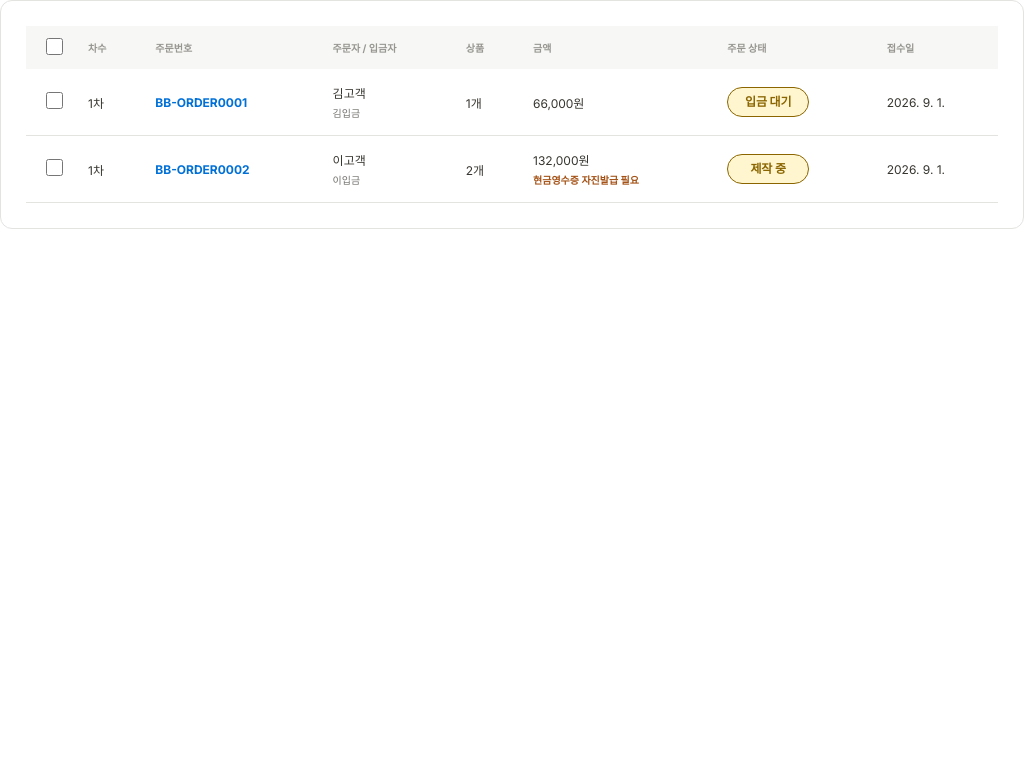
Test: AdminOrdersTable › 확인 후 선택 주문을 한 번의 일괄 작업으로 요청한다
Click the checkbox named "조회된 주문 전체 선택" at [54, 46], box [46,38,62,55]
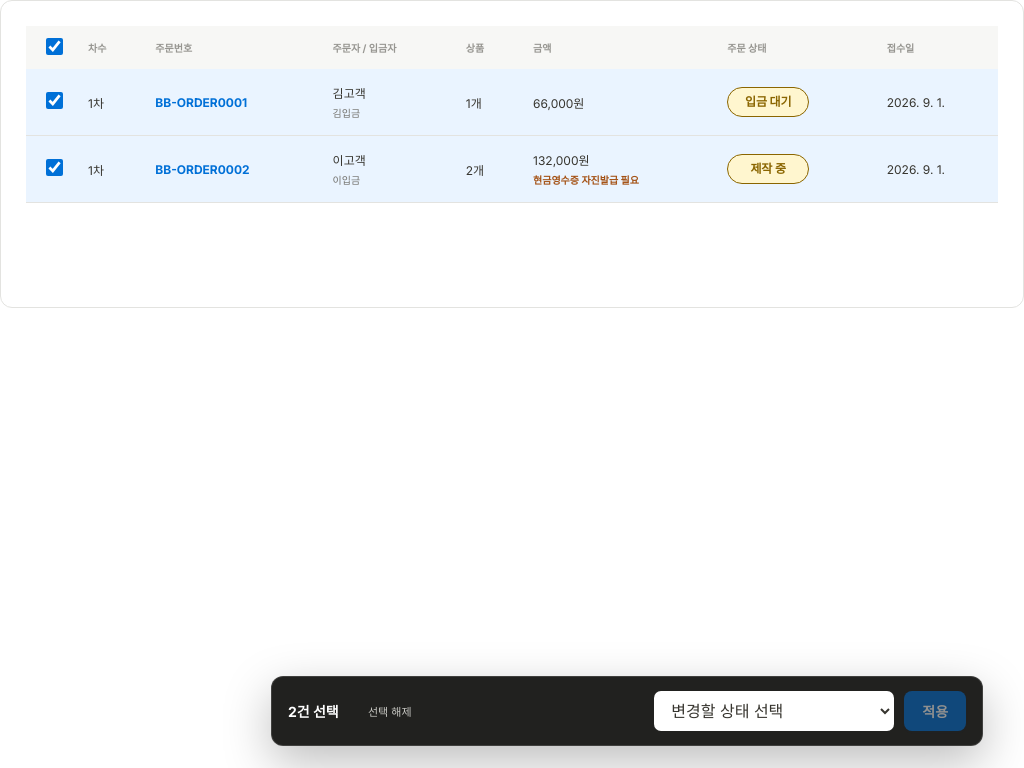
Select "입금 완료" in the dropdown named "변경할 주문 상태" at [774, 711], box [654,691,894,731]
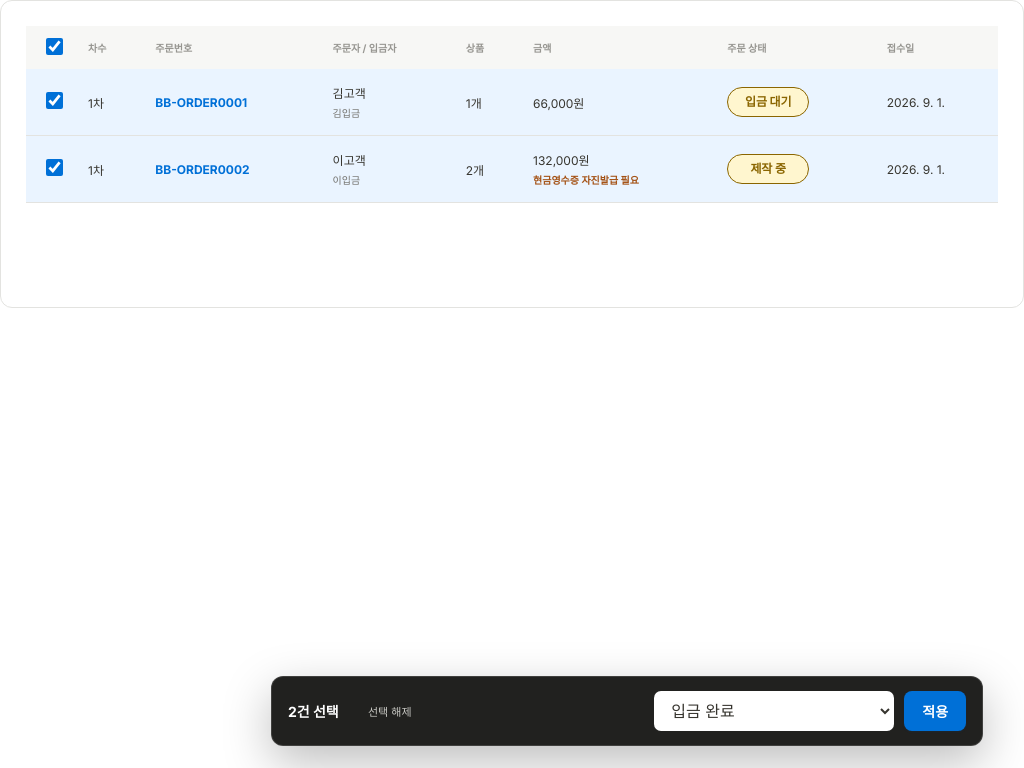
Click the button "적용" at [935, 711], box [904,691,966,731]
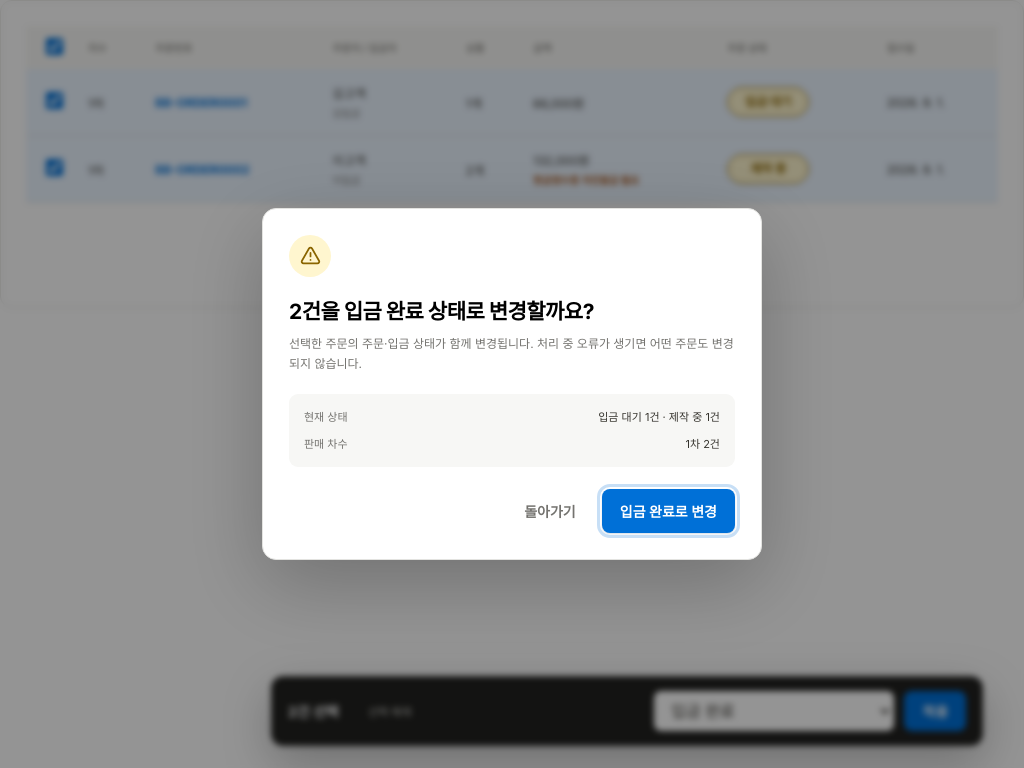
Expected: the dialog shows "2건을 입금 완료 상태로 변경할까요?", [262,208,762,560]
Click the button "입금 완료로 변경" at [668, 511], box [602,489,735,533]
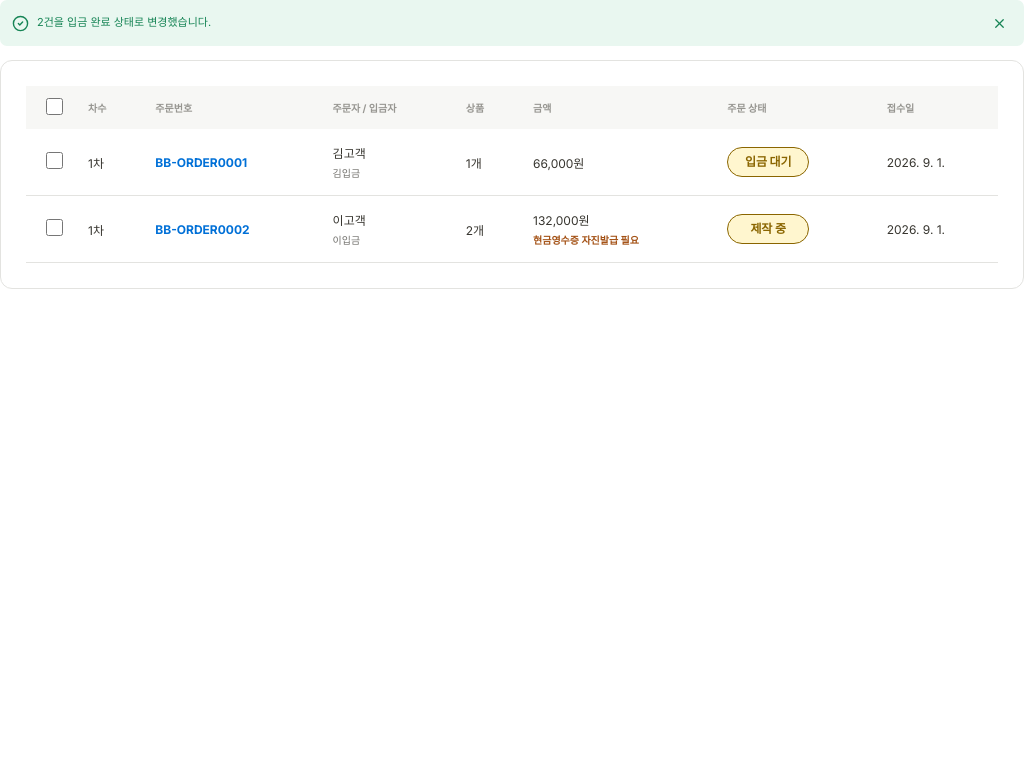
Expected: the text "2건을 입금 완료 상태로 변경했습니다." is shown, [37,15,211,29]
